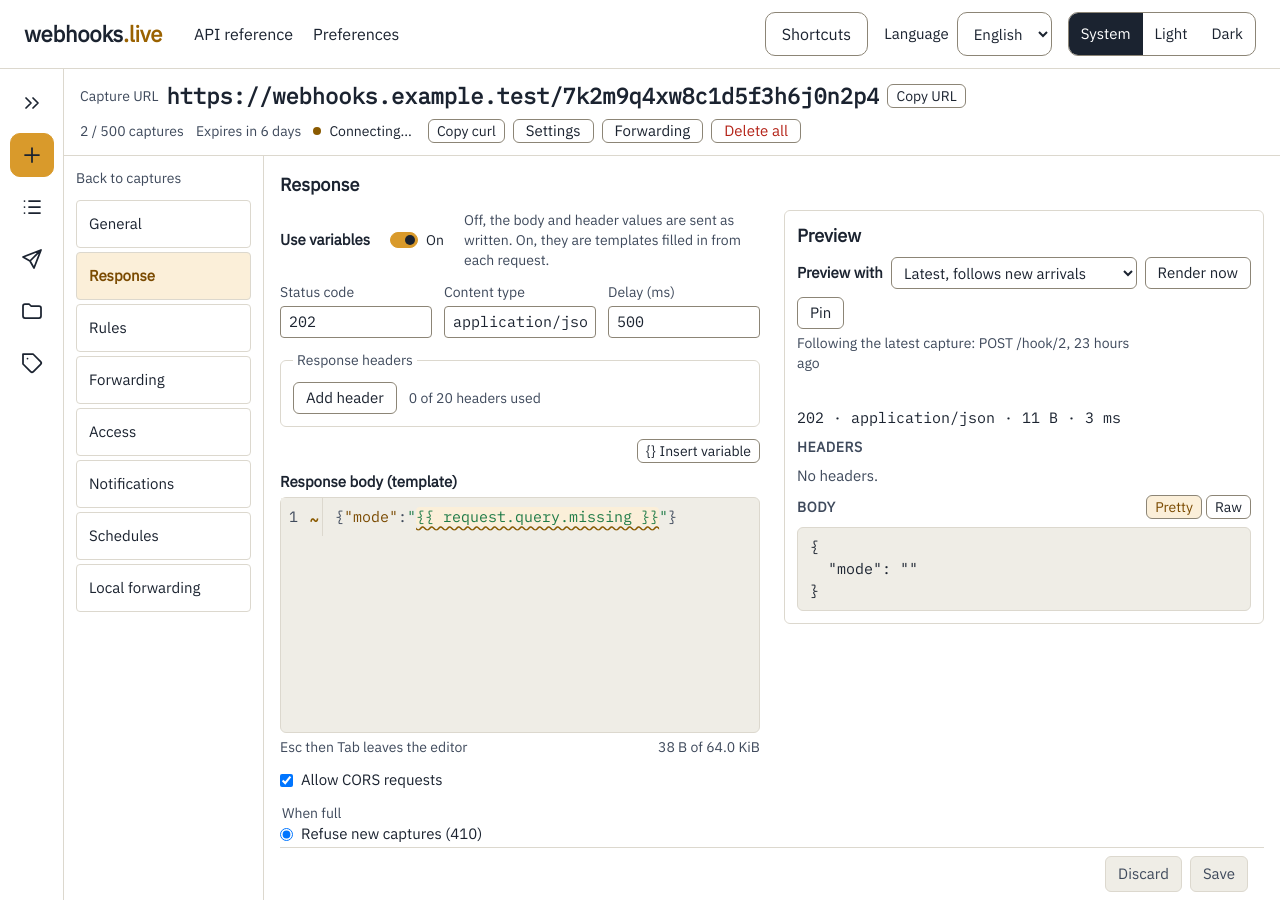
Test: response templating › shows an unknown variable as a warning and leaves Save enabled
The image size is (1280, 900).
Replace the text in the number field labelled "Status code" with "201" at (356, 322), box left=280, top=306, right=432, bottom=338
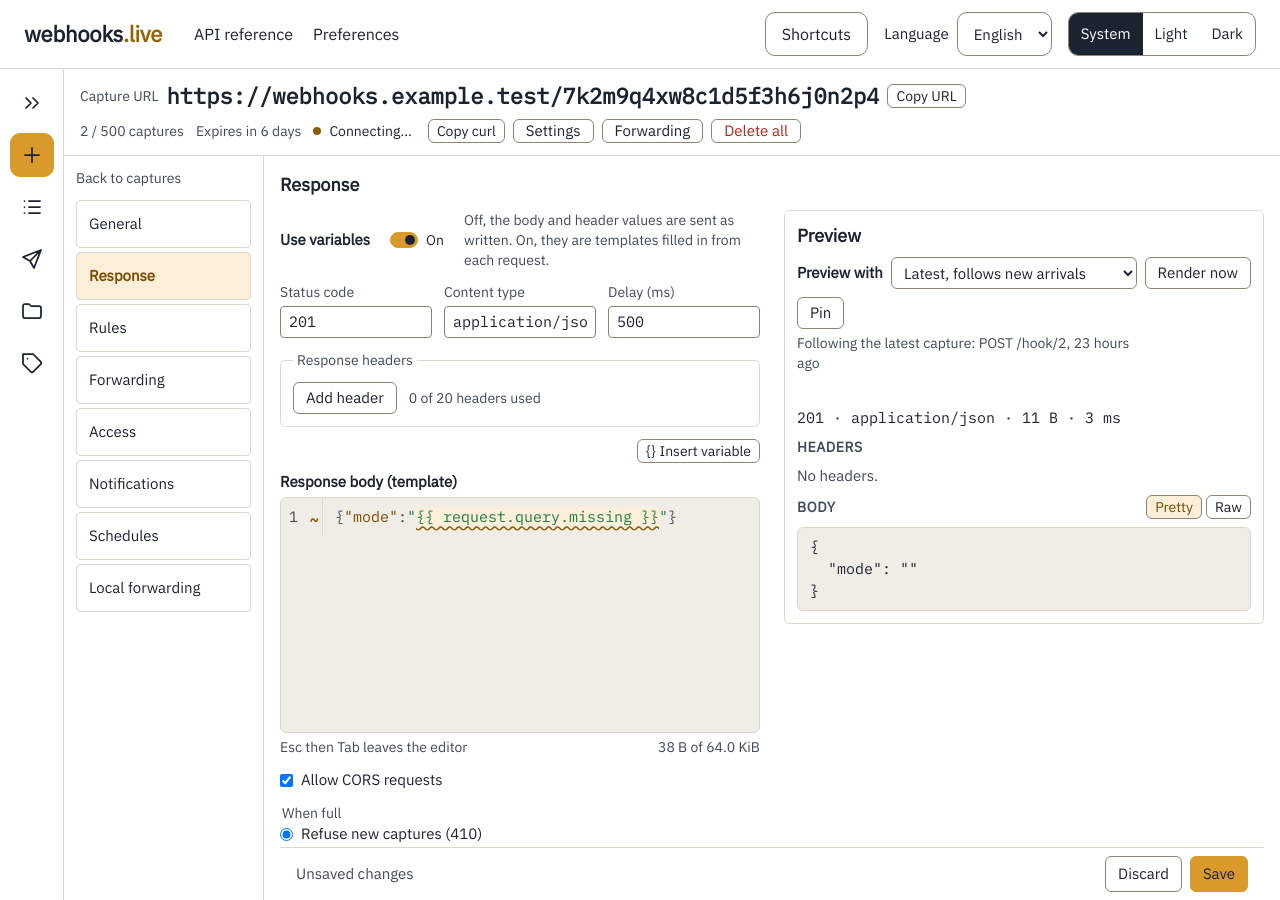
Now the button "Save" is enabled, box left=1190, top=856, right=1248, bottom=892
